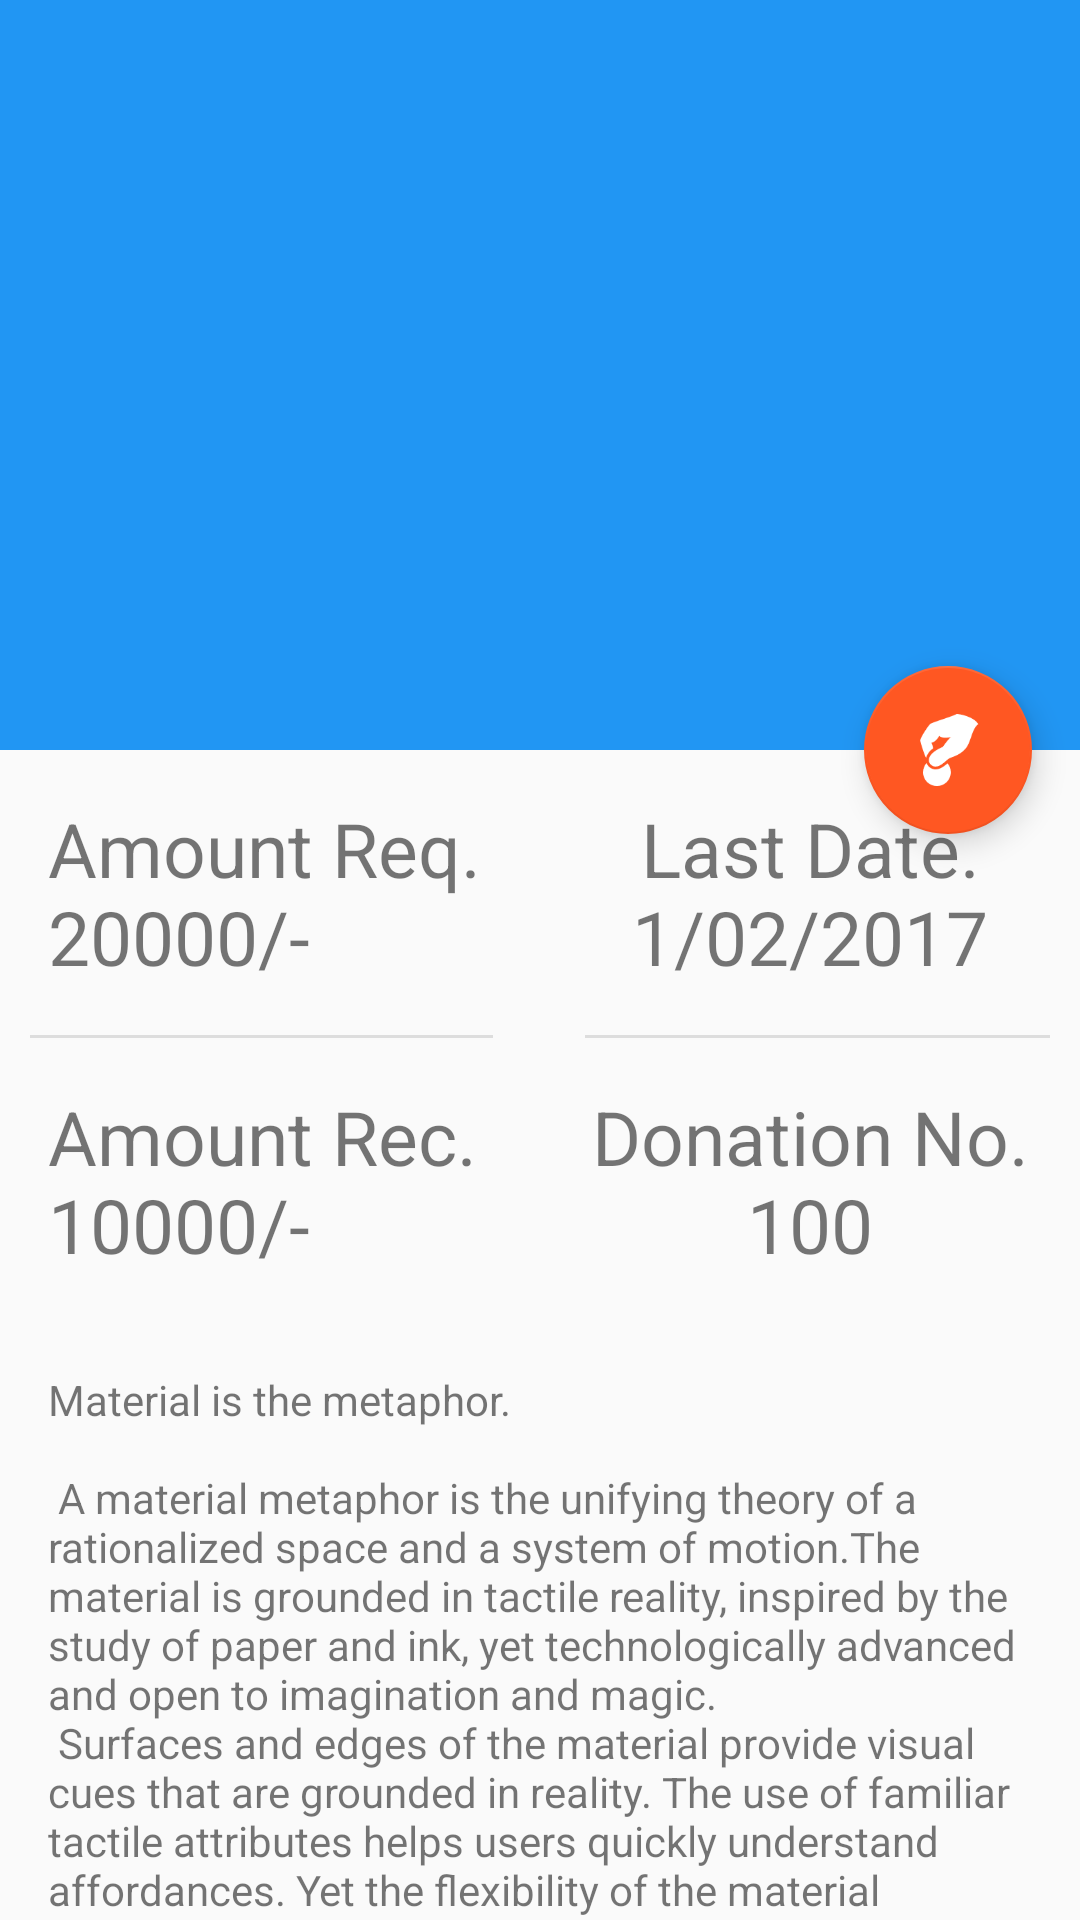

Screen size 1080w x 1920h. Icon name, then its center in pixels as point (x, y):
donate: point (948, 750)
